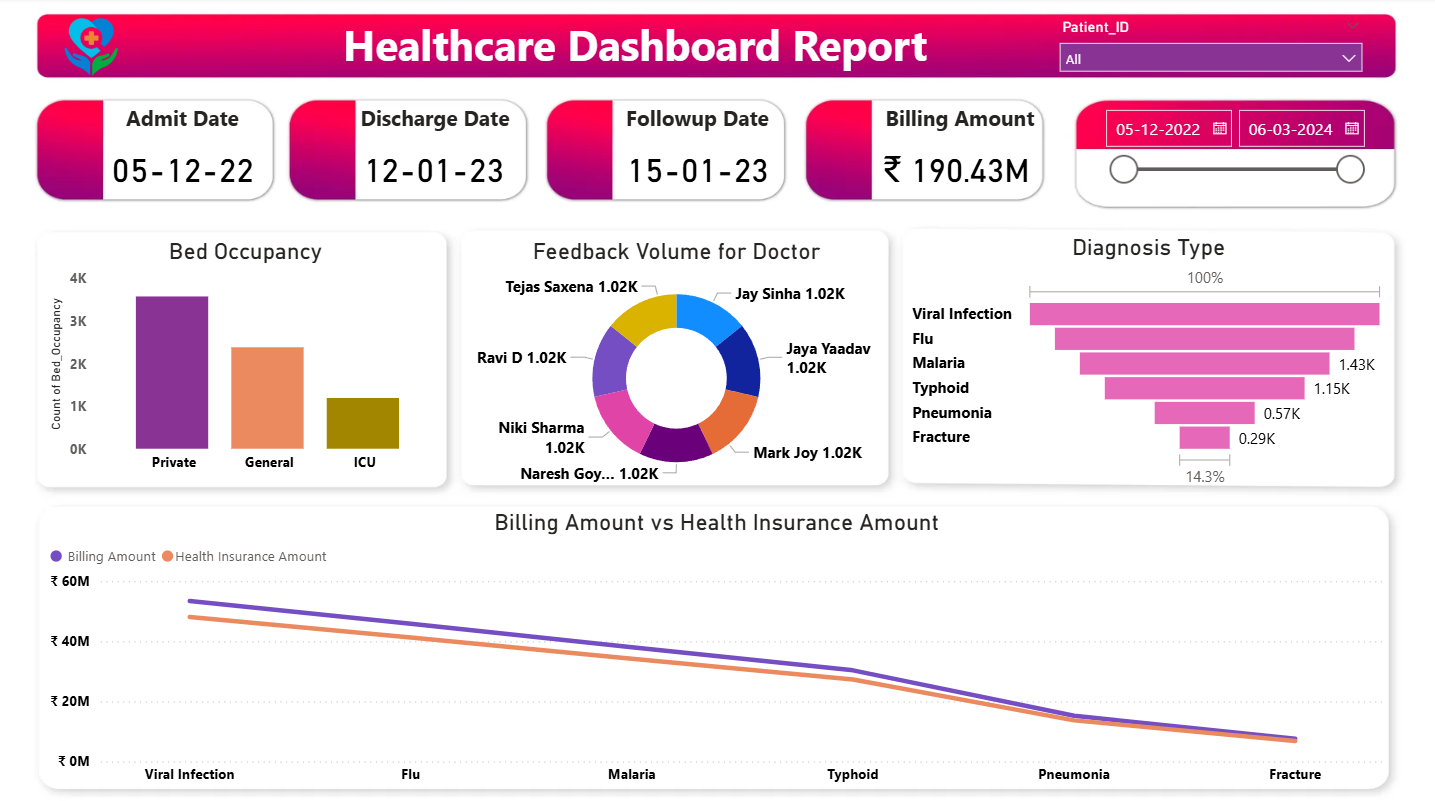

This screenshot's page, from the dashboard's own definition file:
{"tool":"powerbi","page":{"name":"Page 1","canvas":[1280,720],"ordinal":0},"visuals":[{"type":"image","box":[17.5,18.8,130,51.2],"z":0},{"type":"textbox","box":[185,12.5,765,65],"z":1000},{"type":"slicer","fields":{"Values":["Sheet1.Patient_ID"]},"box":[935,15,290,58.8],"z":2000},{"type":"card","title":"Innings","fields":{"Values":["Min(Sheet1.Admit_Date)"]},"box":[73.8,122.5,182.5,61.2],"z":3000},{"type":"textbox","box":[31.2,90,266.2,65],"z":4000},{"type":"card","title":"Innings","fields":{"Values":["Min(Sheet1.Discharge_Date)"]},"box":[297.5,122.5,182.5,61.2],"z":5000},{"type":"textbox","box":[256.2,90,266.2,65],"z":6000},{"type":"textbox","box":[490,90,266.2,65],"z":7000},{"type":"card","title":"Innings","fields":{"Values":["Min(Sheet1.Followup Date)"]},"box":[532.5,122.5,182.5,61.2],"z":8000},{"type":"textbox","box":[723.8,90,266.2,65],"z":9000},{"type":"card","title":"Innings","fields":{"Values":["Sum(Sheet1.Billing Amount)"]},"box":[771.2,122.5,163.8,61.2],"z":10000},{"type":"slicer","fields":{"Values":["Sheet1.Admit_Date"]},"box":[973.8,90,251.2,93.8],"z":11000},{"type":"columnChart","title":"Bed Occupancy","fields":{"Category":["Sheet1.Bed_Occupancy"],"Y":["CountNonNull(Sheet1.Bed_Occupancy)"]},"box":[41.2,213.8,358.8,218.8],"z":12000},{"type":"donutChart","title":"Feedback Volume for Doctor","fields":{"Category":["Sheet1.Doctor"],"Y":["CountNonNull(Sheet1.Doctor)"]},"box":[417.5,213.8,373.8,228.8],"z":13000},{"type":"funnel","title":"Diagnosis Type","fields":{"Category":["Sheet1.Diagnosis"],"Y":["CountNonNull(Sheet1.Diagnosis)"]},"box":[808.8,210,431.2,231.2],"z":14000},{"type":"lineChart","title":"Billing Amount vs Health Insurance Amount","fields":{"Y":["Sum(Sheet1.Billing Amount)","Sum(Sheet1.Health Insurance Amount)"],"Category":["Sheet1.Diagnosis"]},"box":[41,454.8,1198,255.8],"z":14001}]}

Visuals, with their boxes in screenshot pixels (x1, y1, x2, y2), scaled from the page's 1280x720 canvas onto the 1435x801 screenshot:
image: BBox(20, 21, 165, 78)
textbox: BBox(207, 14, 1065, 86)
slicer - Sheet1.Patient_ID: BBox(1048, 17, 1373, 82)
"Innings" card: BBox(83, 136, 287, 204)
textbox: BBox(35, 100, 333, 172)
"Innings" card: BBox(334, 136, 538, 204)
textbox: BBox(287, 100, 586, 172)
textbox: BBox(549, 100, 848, 172)
"Innings" card: BBox(597, 136, 802, 204)
textbox: BBox(811, 100, 1110, 172)
"Innings" card: BBox(865, 136, 1048, 204)
slicer - Sheet1.Admit_Date: BBox(1092, 100, 1373, 204)
"Bed Occupancy" columnChart: BBox(46, 238, 448, 481)
"Feedback Volume for Doctor" donutChart: BBox(468, 238, 887, 492)
"Diagnosis Type" funnel: BBox(907, 234, 1390, 491)
"Billing Amount vs Health Insurance Amount" lineChart: BBox(46, 506, 1389, 791)
